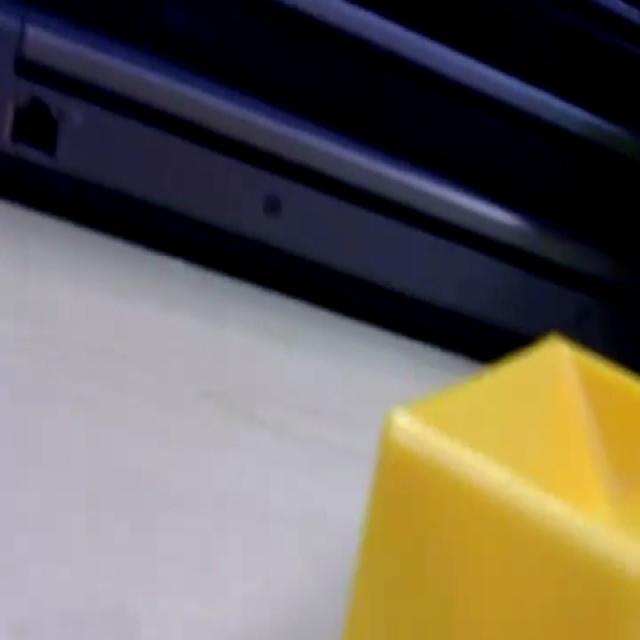yellow_block: (342, 328, 638, 637)
